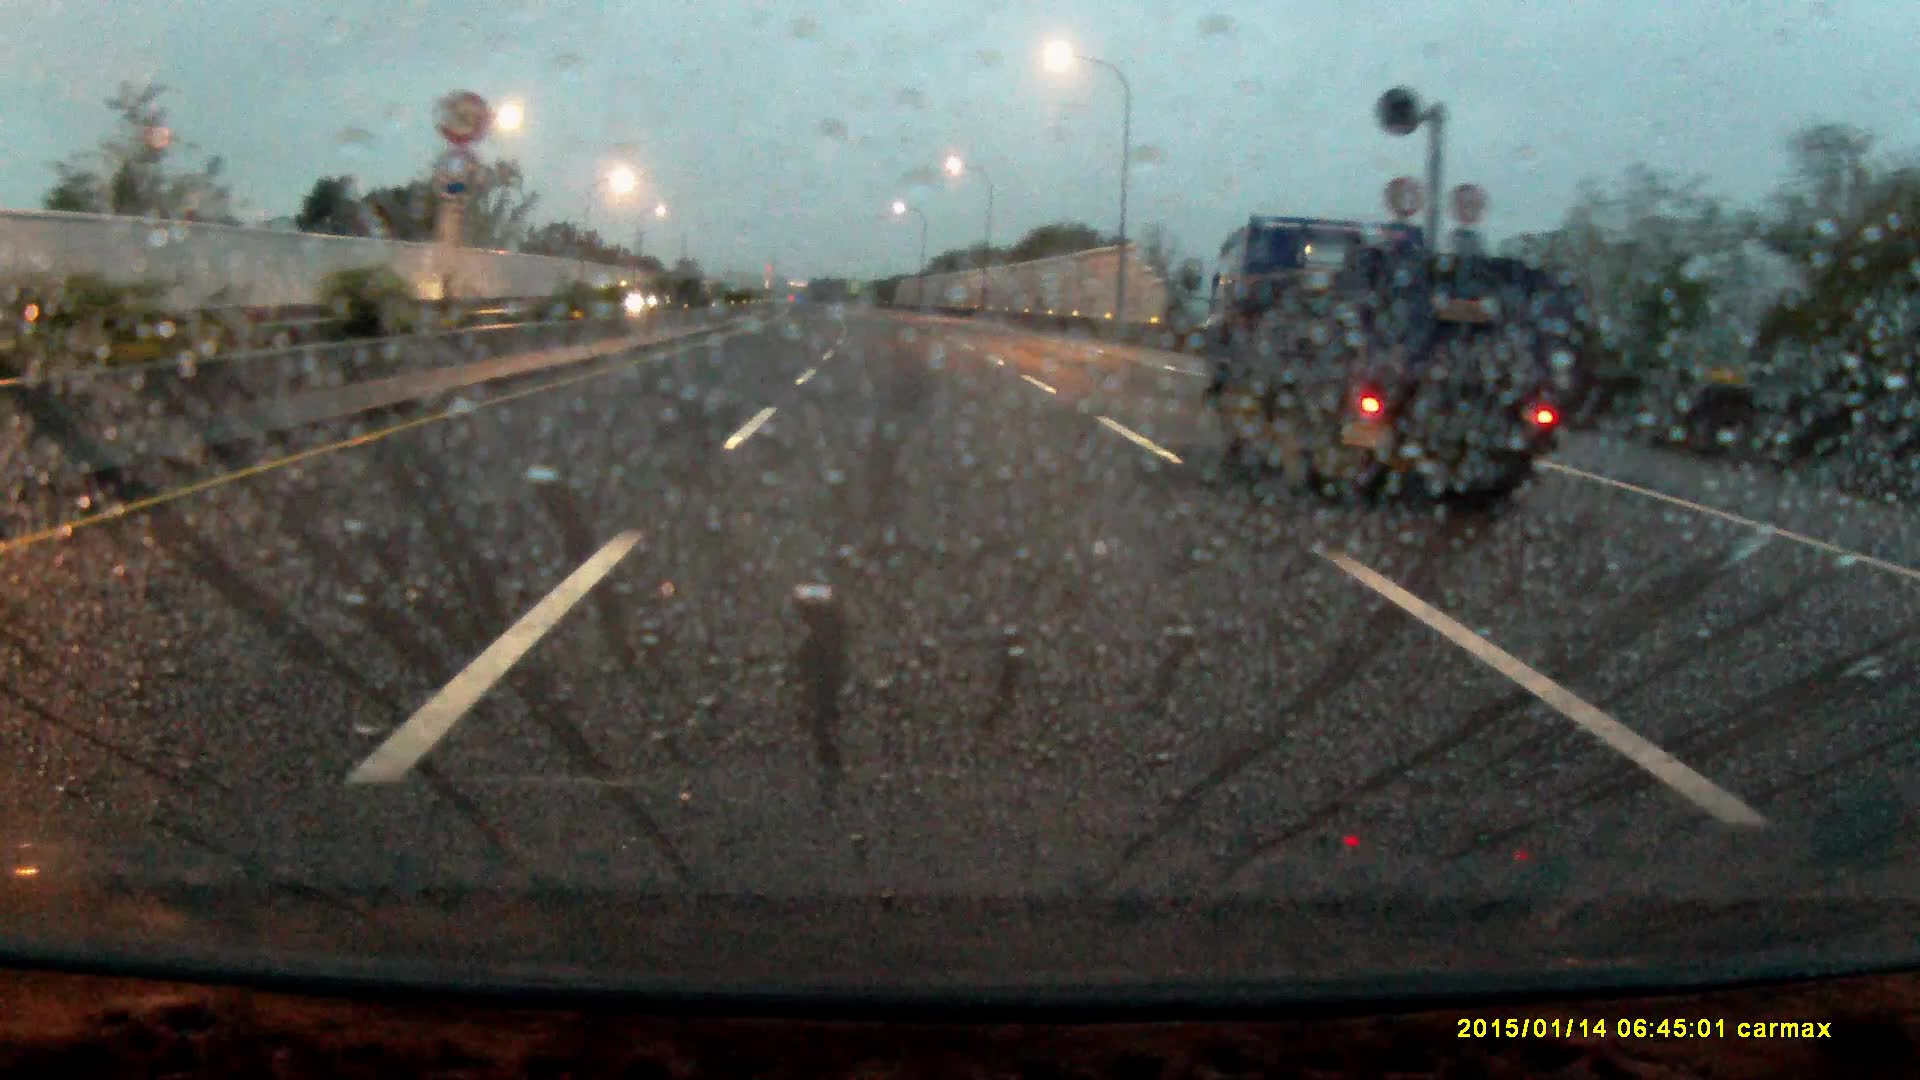vehicle: (1211, 204, 1609, 527)
